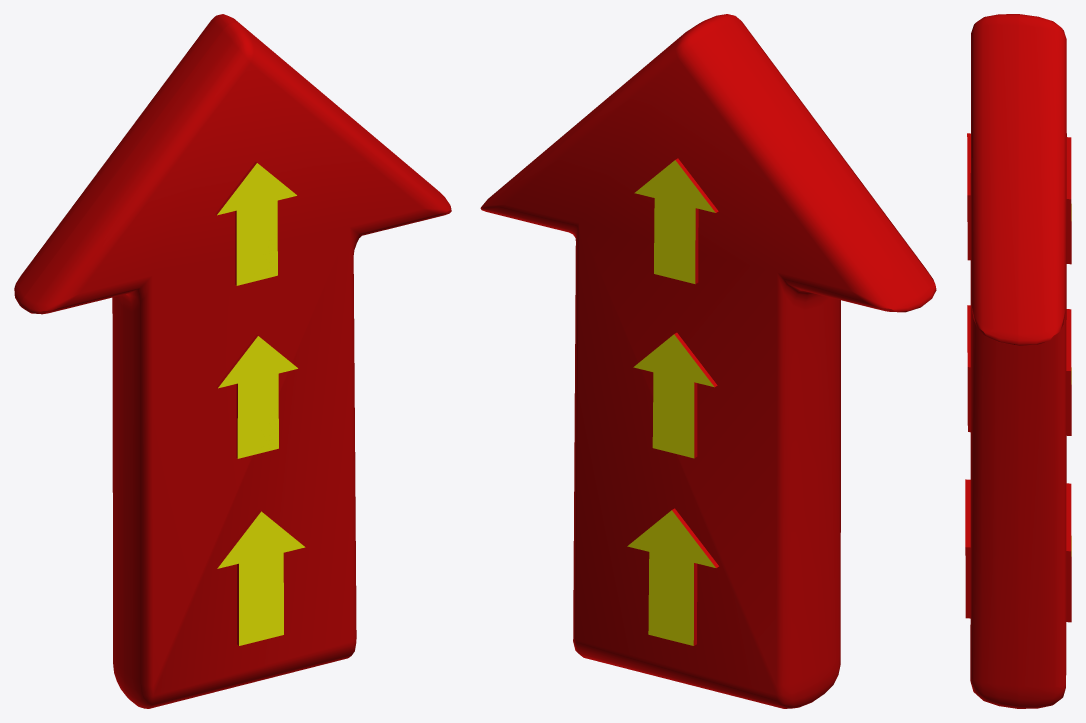
Rendered from powerup.fbx.
3 renders of one model, left to right at view 1: azimuth 30°, elevation 25°; view 2: azimuth 150°, elevation 25°; view 3: azimuth 270°, elevation 25°, orthographic.
Visible parts, largest first — view 1: Line003; view 2: Line003; view 3: Line003.
Boxes of the visible parts, x1=… form: Line003: x1=14, y1=14, x2=451, y2=708; Line003: x1=480, y1=14, x2=936, y2=708; Line003: x1=965, y1=14, x2=1071, y2=708.
Bounding box in the file's own units: 24.29 × 35.52 × 5.31.
